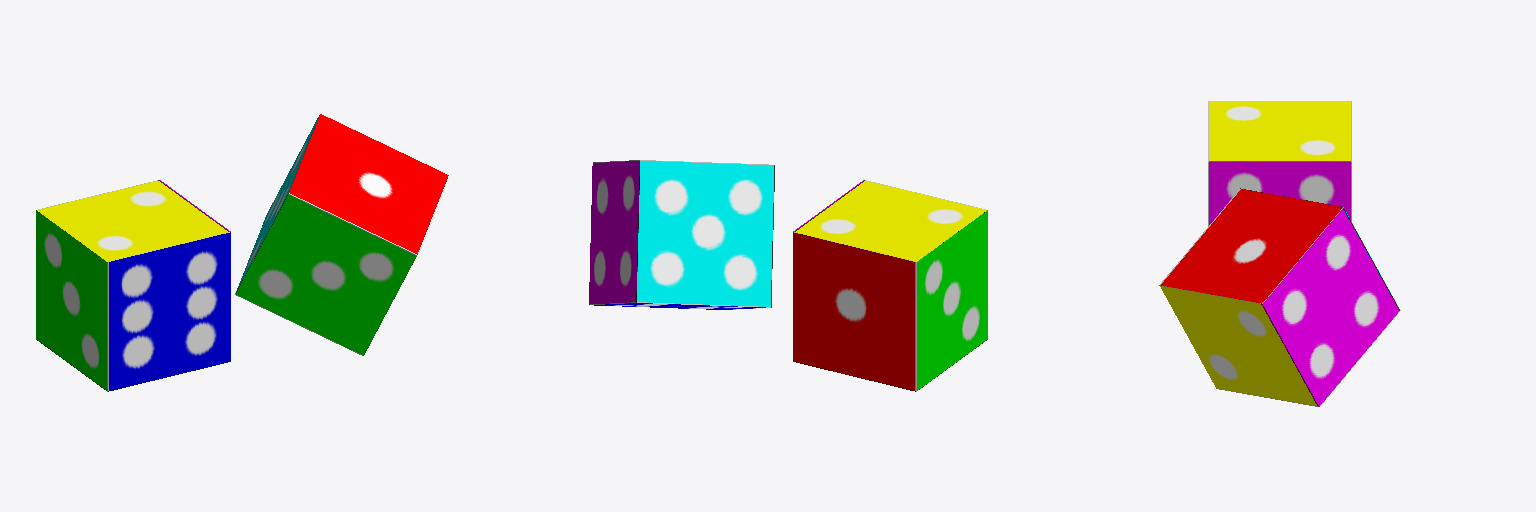
3 views of the same model, side by side, from view 1: azimuth 30°, elevation 25°; view 2: azimuth 150°, elevation 25°; view 3: azimuth 270°, elevation 25° (orthographic).
Parts seen in each view (by area): view 1: Die, RollingDie; view 2: Die, RollingDie; view 3: RollingDie, Die.
Part boxes in pixels (left/top/right/bottom): Die: left=36, top=180, right=230, bottom=391; RollingDie: left=235, top=114, right=448, bottom=355; Die: left=793, top=180, right=987, bottom=391; RollingDie: left=589, top=160, right=774, bottom=309; RollingDie: left=1159, top=188, right=1400, bottom=406; Die: left=1208, top=101, right=1351, bottom=226.
Bounding box in the file's own units: 5.95 × 2.96 × 3.37.
1 materials, 1 textured.